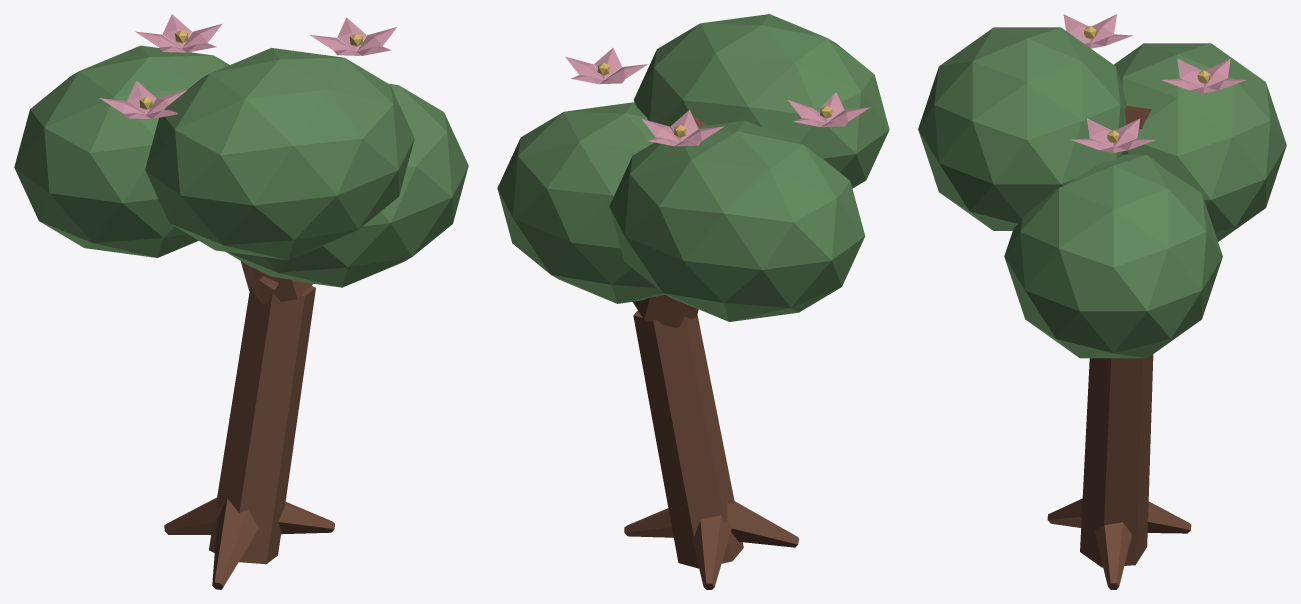
File: map-boundaries-v5__village_01.glb
3 renders of one model, left to right at view 1: azimuth 30°, elevation 25°; view 2: azimuth 150°, elevation 25°; view 3: azimuth 270°, elevation 25°, orthographic. The views are drawn at different scales.
Visible parts, largest first — view 1: village_01; view 2: village_01; view 3: village_01.
Part boxes in pixels (box(x1,y1,x2,y2)): village_01: box(14, 14, 468, 589); village_01: box(497, 14, 889, 589); village_01: box(918, 14, 1286, 589).
Size of the model in its own units: 1.88 by 2.48 by 1.62.
